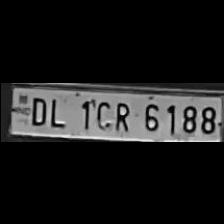1: (74, 94, 92, 130), (162, 100, 178, 134)
6: (136, 98, 162, 132)
8: (178, 102, 198, 134), (198, 102, 216, 134)
C: (92, 96, 112, 130)
D: (26, 94, 46, 126)
L: (46, 94, 68, 128)
R: (110, 96, 132, 132)
